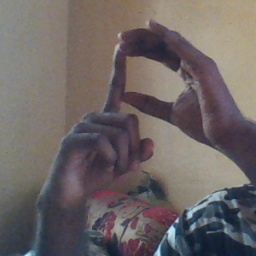P: (69, 16, 218, 181)
